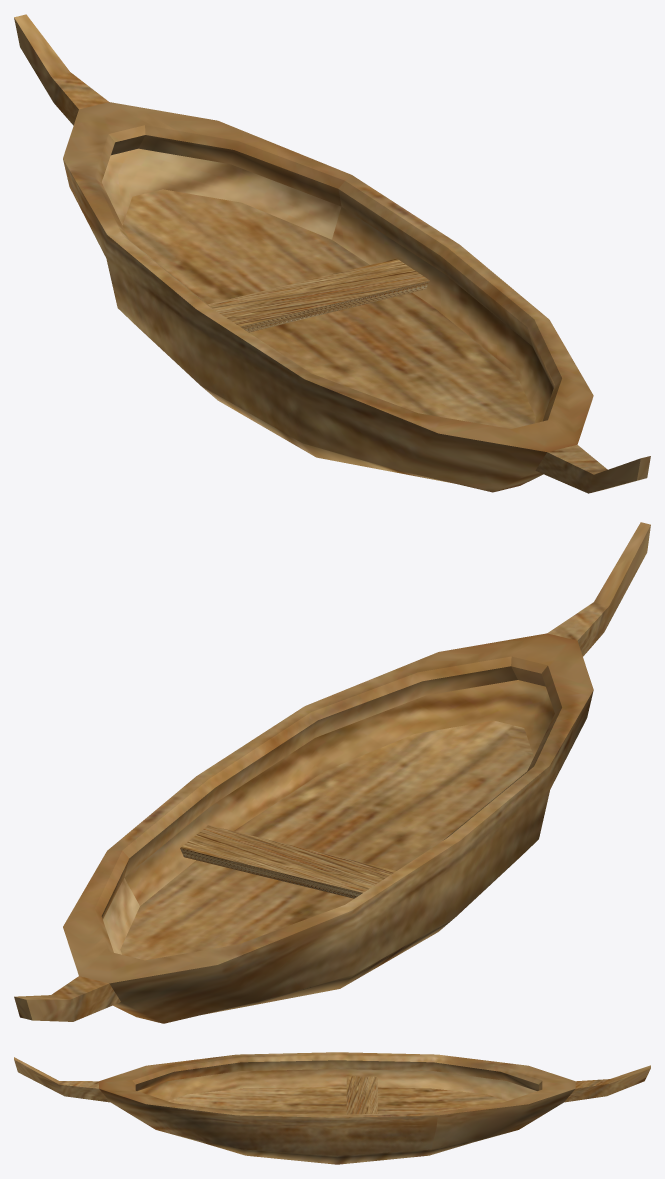
Rendered from boat_combined.fbx.
The picture shows the model from 3 angles, top to bottom: view 1: azimuth 30°, elevation 25°; view 2: azimuth 150°, elevation 25°; view 3: azimuth 270°, elevation 25°; orthographic projection. The views are drawn at different scales.
Visible parts, largest first — view 1: boat_combined; view 2: boat_combined; view 3: boat_combined.
Part boxes in pixels (x1,y1,x2,y2): boat_combined: (14, 14, 650, 493); boat_combined: (14, 522, 650, 1023); boat_combined: (14, 1052, 650, 1164).
Size of the model in its own units: 7.38 by 4.28 by 29.81.
Materials: 1 (1 with a texture image).
